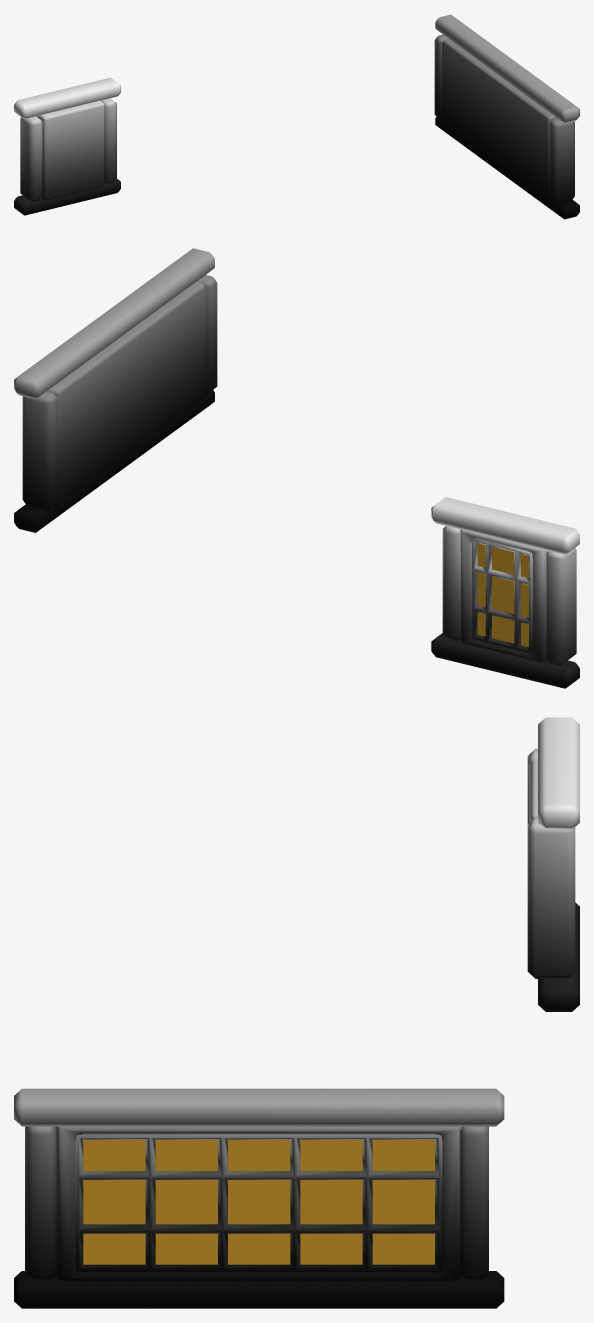
The model's file is SM_Brick_Window_02.fbx.
3 views of the same model, one above another, from view 1: azimuth 30°, elevation 25°; view 2: azimuth 150°, elevation 25°; view 3: azimuth 270°, elevation 25° (orthographic). The views are drawn at different scales.
Parts seen in each view (by area): view 1: SM_Brick_Window_02; view 2: SM_Brick_Window_02; view 3: SM_Brick_Window_02.
Boxes of the visible parts, x1,y1,x2,y2 form: SM_Brick_Window_02: (14, 14, 579, 219); SM_Brick_Window_02: (14, 248, 579, 688); SM_Brick_Window_02: (14, 717, 579, 1308).
Size of the model in its own units: 1.68 by 0.4234 by 1.04.
